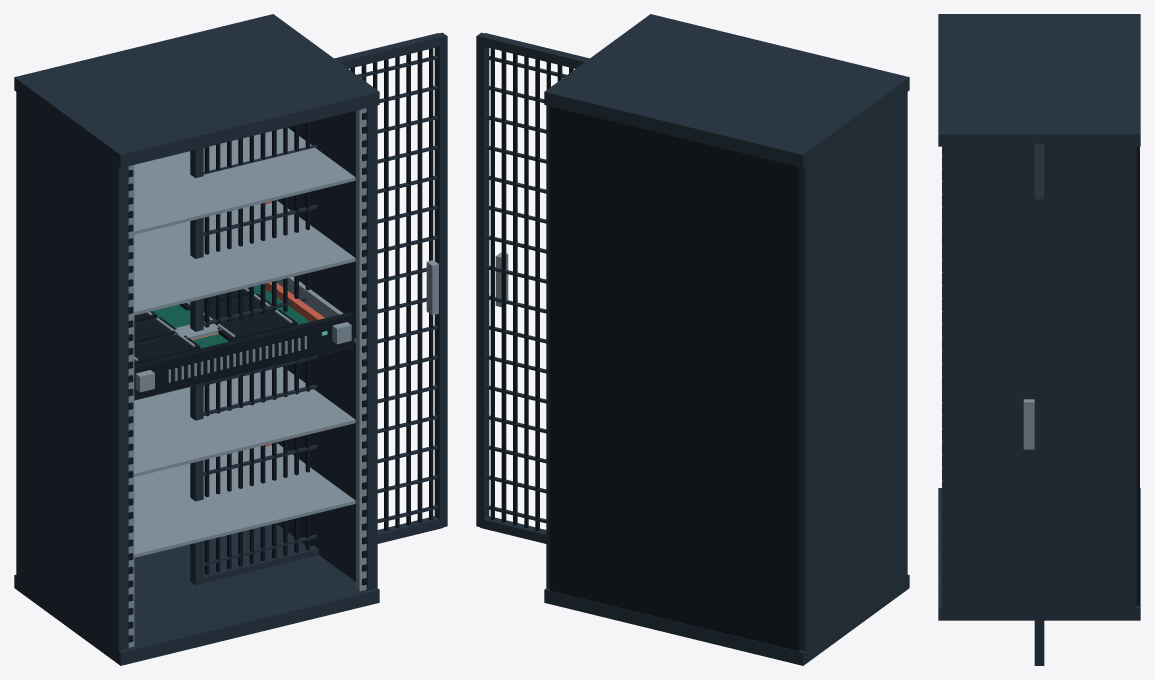
File: liquid-cooled-rack.glb
3 renders of one model, left to right at view 1: azimuth 30°, elevation 25°; view 2: azimuth 150°, elevation 25°; view 3: azimuth 270°, elevation 25°, orthographic. The views are drawn at different scales.
Visible parts, largest first — view 1: Cabinet, Door, Tray; view 2: Cabinet, Door; view 3: Cabinet, Door.
Part boxes in pixels (bbox=[...]): Cabinet: bbox=[14, 14, 379, 665]; Door: bbox=[190, 32, 447, 584]; Tray: bbox=[134, 277, 354, 400]; Cabinet: bbox=[544, 14, 909, 665]; Door: bbox=[476, 32, 589, 543]; Cabinet: bbox=[938, 14, 1140, 620]; Door: bbox=[1023, 143, 1044, 665].
Size of the model in its own units: 3.03 by 3.92 by 1.48.
